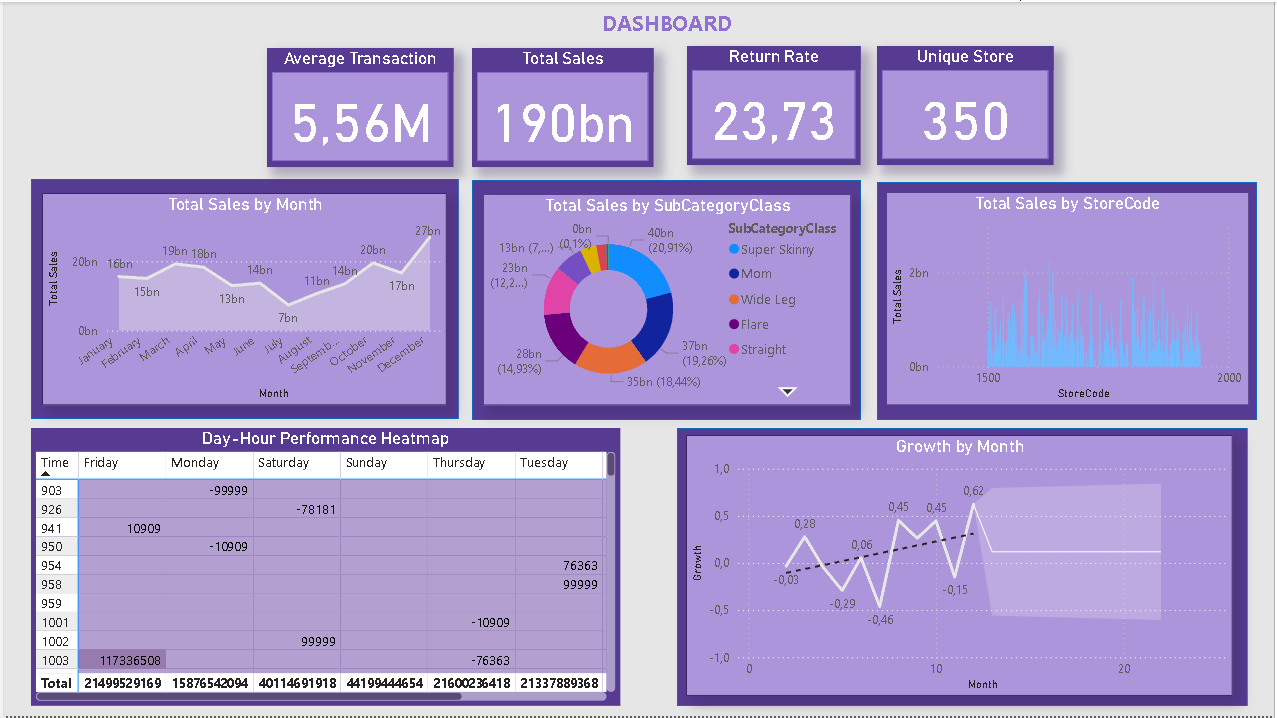

What the dashboard file says about the page in this screenshot:
{"tool":"powerbi","page":{"name":"Page 1","canvas":[1280,720],"ordinal":0},"visuals":[{"type":"shape","box":[678.3,429.4,575.5,280.2],"z":0},{"type":"shape","box":[879.9,181.4,383,239.9],"z":1000},{"type":"shape","box":[471.7,179.4,392.1,241.9],"z":2000},{"type":"shape","box":[27.2,178.4,431.4,241.9],"z":3000},{"type":"cardVisual","title":"Total Sales","fields":{"Data":["sales_cleaned.Total Sales"]},"box":[471.7,46.4,183.4,119.9],"z":4000},{"type":"cardVisual","title":"Average Transaction","fields":{"Data":["sales_cleaned.Average Transaction"]},"box":[265.1,46.4,188.5,119.9],"z":5000},{"type":"cardVisual","title":"Unique Store","fields":{"Data":["sales_cleaned.Unique Stores"]},"box":[879.9,44.3,178.4,119.9],"z":6000},{"type":"cardVisual","title":"Return Rate","fields":{"Data":["sales_cleaned.Return Rate"]},"box":[688.4,44.3,175.4,119.9],"z":7000},{"type":"lineChart","fields":{"Category":["sales_cleaned.YearMonth.Variation.Date Hierarchy.Month","sales_cleaned.YearMonth.Variation.Date Hierarchy.Day"],"Y":["sales_cleaned.Total Sales"]},"box":[38.3,192.5,408.2,213.7],"z":8000},{"type":"donutChart","fields":{"Y":["sales_cleaned.Total Sales"],"Category":["products_cleaned.SubCategoryClass"]},"box":[482.8,193.5,370.9,212.7],"z":9000},{"type":"clusteredColumnChart","fields":{"Category":["sales_cleaned.StoreCode"],"Y":["sales_cleaned.Total Sales"]},"box":[890,192.5,363.8,212.7],"z":10000},{"type":"pivotTable","title":"Day-Hour Performance Heatmap","fields":{"Rows":["sales_cleaned.Time"],"Columns":["sales_cleaned.WeekDay"],"Values":["sales_cleaned.Total Sales"]},"box":[27.2,429.4,593.6,280.2],"z":11000},{"type":"lineChart","fields":{"Category":["sales_cleaned.Month"],"Y":["sales_cleaned.Growth"]},"box":[687.4,436.4,551.3,263.1],"z":12000},{"type":"textbox","box":[588.6,0,159.2,41.3],"z":12001}]}

Visuals, with their boxes in screenshot pixels (x1, y1, x2, y2), scaled from the page's 1280x720 canvas onto the 1277x718 screenshot:
shape: (677,428,1251,708)
shape: (878,181,1260,420)
shape: (471,179,862,420)
shape: (27,178,458,419)
"Total Sales" cardVisual: (471,46,654,166)
"Average Transaction" cardVisual: (264,46,453,166)
"Unique Store" cardVisual: (878,44,1056,164)
"Return Rate" cardVisual: (687,44,862,164)
lineChart - sales_cleaned.YearMonth.Variation.Date Hierarchy.Month x sales_cleaned.YearMonth.Variation.Date Hierarchy.Day: (38,192,445,405)
donutChart - sales_cleaned.Total Sales x products_cleaned.SubCategoryClass: (482,193,852,405)
clusteredColumnChart - sales_cleaned.StoreCode x sales_cleaned.Total Sales: (888,192,1251,404)
"Day-Hour Performance Heatmap" pivotTable: (27,428,619,708)
lineChart - sales_cleaned.Month x sales_cleaned.Growth: (686,435,1236,698)
textbox: (587,0,746,41)
